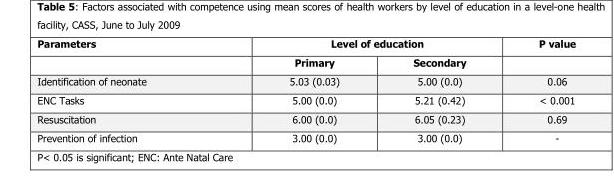table: (36, 36, 575, 143)
table column: (36, 36, 217, 143), (217, 36, 375, 143), (375, 36, 501, 143), (501, 36, 575, 143)
table column header: (36, 36, 575, 71)
table row: (36, 52, 575, 71), (36, 89, 575, 108), (36, 108, 575, 127), (36, 71, 575, 89), (36, 36, 575, 52), (36, 127, 575, 143)
table spanning cell: (36, 36, 217, 71), (217, 36, 501, 52), (501, 36, 575, 71)
